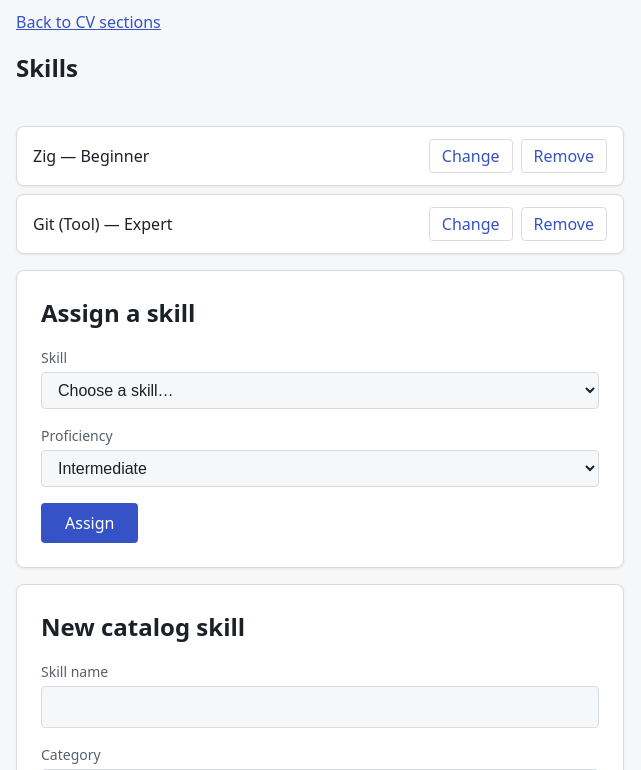
Test: SkillsPage › re-assigning updates the entry in place — one row per skill
Click the button with aria-label "Change Zig" at (471, 156), box [429,139,512,173]
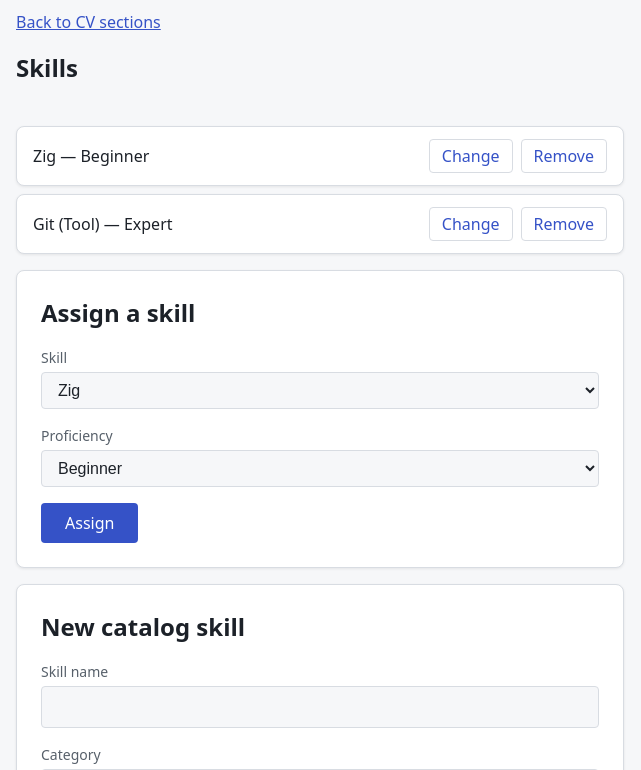
Check: the dropdown labelled "Skill" shows "Zig", box [41,372,599,409]
Select "Expert" in the dropdown labelled "Proficiency" at (320, 468), box [41,450,599,487]
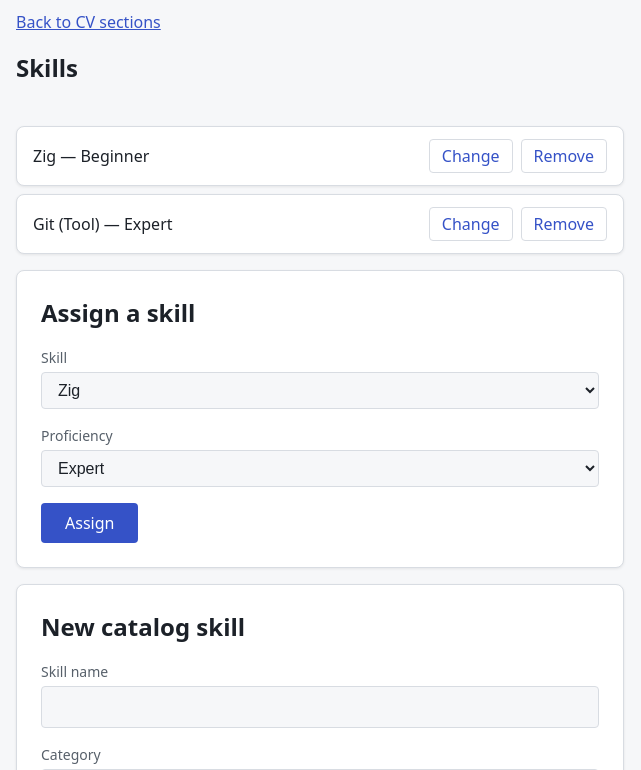
Click the button "Assign" at (90, 523), box [41,503,138,543]
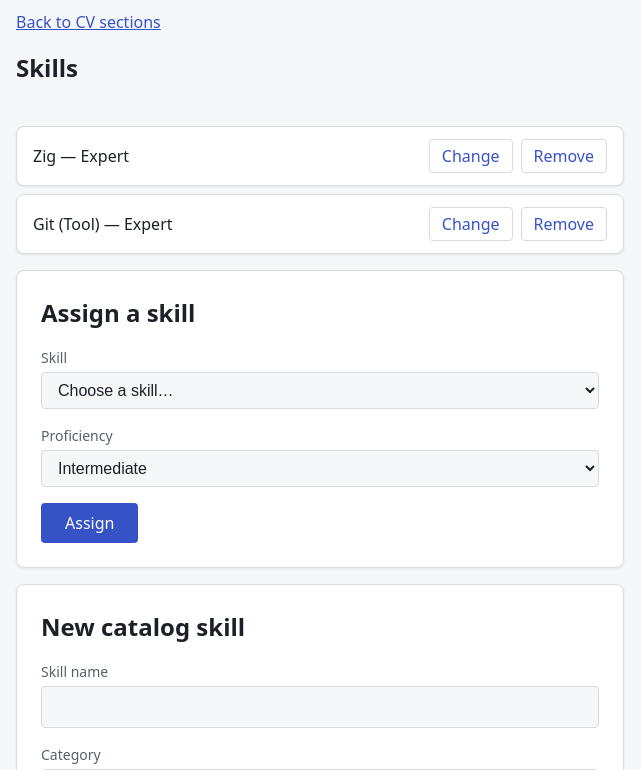
Check: the number of list items is 2, box [16,126,624,186]; [16,194,624,254]
Check: the list item "Zig — Expert Change Remove" is shown, box [16,126,624,186]
